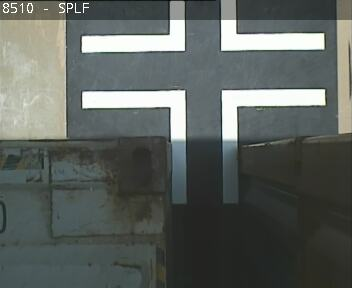groundmarker_1: (81, 89, 325, 201), (82, 1, 327, 52)
